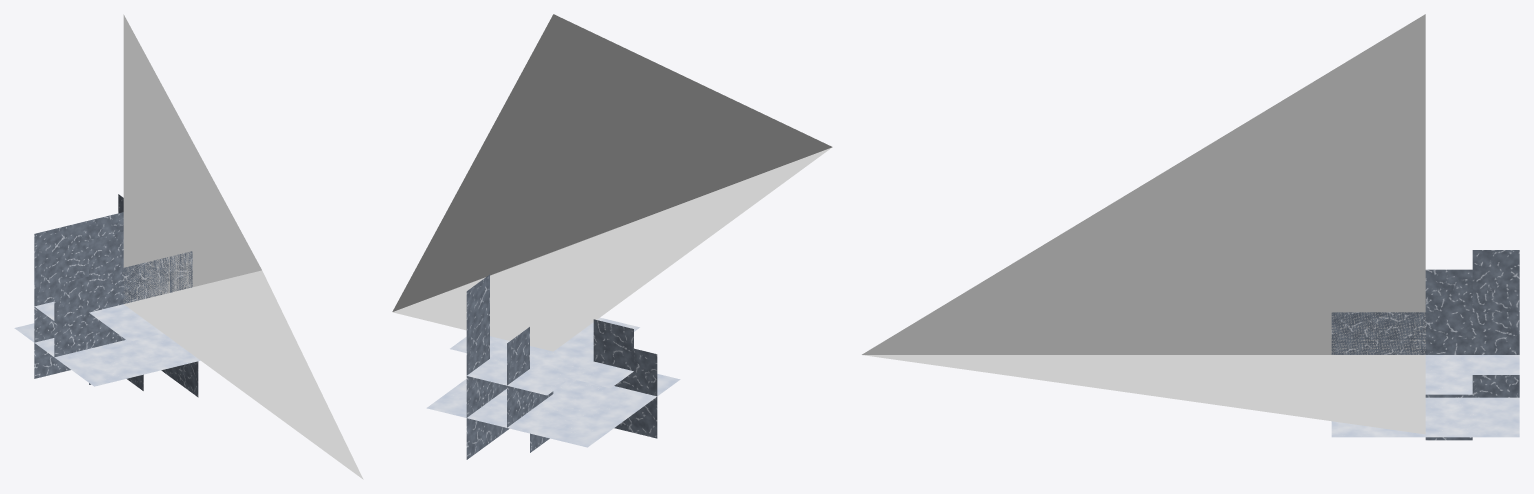
Rendered from tiles.glb.
3 renders of one model, left to right at view 1: azimuth 30°, elevation 25°; view 2: azimuth 150°, elevation 25°; view 3: azimuth 270°, elevation 25°, orthographic. The views are drawn at different scales.
Visible parts, largest first — view 1: mb_frame, tetra_b1h3, edge_inner_b2h4, slab_b4h0, edge_b1h1, tetra_b3h1, ell_b3h0, edge_b0h2, ell_b0h3, corner_b0h1, edge_inner_b4h2, tetra_b3h1_outdoor (+11 smaller); view 2: mb_frame, twist_left_b1h3, ell_b2h1_b, ell_b3h0, ell_b3h0_outdoor, ell_b1h2_b, tetra_b3h1, twist_left_b2h2, edge_b2h0, twist_left_b3h1_outdoor, tetra_b3h1_outdoor, spike_b1h1 (+10 smaller); view 3: mb_frame, corner_inner_b3h4, tetra_b1h3, twist_right_b3h1, ell_b0h3, ell_b1h2_a, corner_b0h1, edge_b1h1, edge_b2h0, twist_right_b3h1_outdoor, ell_b2h1_a, ell_inner_b3h2_b (+6 smaller).
Part boxes in pixels (x1=…): mb_frame: x1=123, y1=14, x2=363, y2=479; tetra_b1h3: x1=54, y1=231, x2=123, y2=320; edge_inner_b2h4: x1=123, y1=251, x2=192, y2=303; slab_b4h0: x1=89, y1=334, x2=197, y2=377; edge_b1h1: x1=34, y1=226, x2=68, y2=375; tetra_b3h1: x1=35, y1=301, x2=123, y2=357; ell_b3h0: x1=35, y1=338, x2=128, y2=386; edge_b0h2: x1=36, y1=212, x2=123, y2=267; ell_b0h3: x1=89, y1=232, x2=123, y2=276; corner_b0h1: x1=34, y1=225, x2=68, y2=269; edge_inner_b4h2: x1=91, y1=335, x2=197, y2=377; tetra_b3h1_outdoor: x1=34, y1=302, x2=123, y2=356; mb_frame: x1=392, y1=14, x2=832, y2=351; twist_left_b1h3: x1=593, y1=319, x2=657, y2=437; ell_b2h1_b: x1=466, y1=274, x2=529, y2=427; ell_b3h0: x1=530, y1=374, x2=680, y2=430; ell_b3h0_outdoor: x1=428, y1=374, x2=679, y2=437; ell_b1h2_b: x1=466, y1=327, x2=529, y2=459; tetra_b3h1: x1=509, y1=351, x2=633, y2=394; twist_left_b2h2: x1=450, y1=327, x2=529, y2=458; edge_b2h0: x1=426, y1=391, x2=569, y2=437; twist_left_b3h1_outdoor: x1=466, y1=318, x2=640, y2=443; tetra_b3h1_outdoor: x1=521, y1=352, x2=632, y2=393; spike_b1h1: x1=466, y1=276, x2=673, y2=438; mb_frame: x1=862, y1=14, x2=1425, y2=434; corner_inner_b3h4: x1=1331, y1=312, x2=1461, y2=396; tetra_b1h3: x1=1425, y1=269, x2=1519, y2=354; twist_right_b3h1: x1=1331, y1=397, x2=1472, y2=437; ell_b0h3: x1=1425, y1=269, x2=1472, y2=312; ell_b1h2_a: x1=1472, y1=312, x2=1519, y2=354; corner_b0h1: x1=1472, y1=250, x2=1519, y2=292; edge_b1h1: x1=1472, y1=250, x2=1519, y2=312; edge_b2h0: x1=1472, y1=397, x2=1519, y2=437; twist_right_b3h1_outdoor: x1=1331, y1=375, x2=1519, y2=437; ell_b2h1_a: x1=1472, y1=375, x2=1519, y2=437; ell_inner_b3h2_b: x1=1425, y1=355, x2=1472, y2=394.
Bounding box in the file's own units: 1.5 × 2.5 × 3.5.
2 materials, 2 textured.
